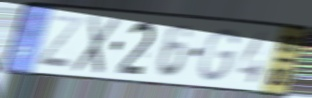2: (116, 20, 155, 77)
4: (235, 29, 270, 88)
6: (155, 22, 194, 80)
G: (198, 26, 240, 84)
X: (70, 12, 123, 77)
Z: (35, 13, 86, 71)
